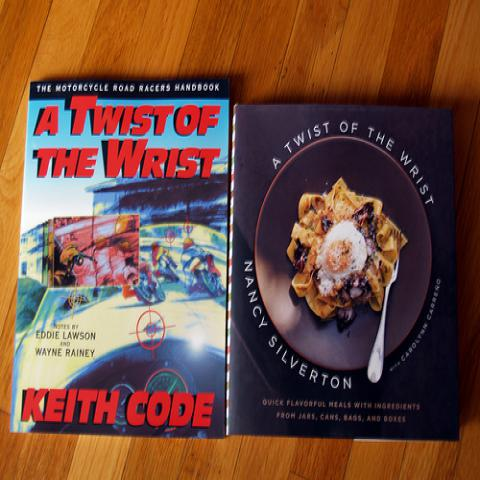motorcycle: (122, 265, 167, 305), (149, 241, 181, 283), (194, 253, 221, 300)
